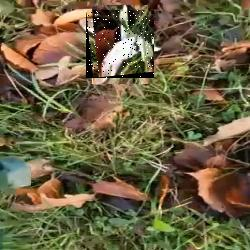restaffald: (86, 10, 154, 78)
